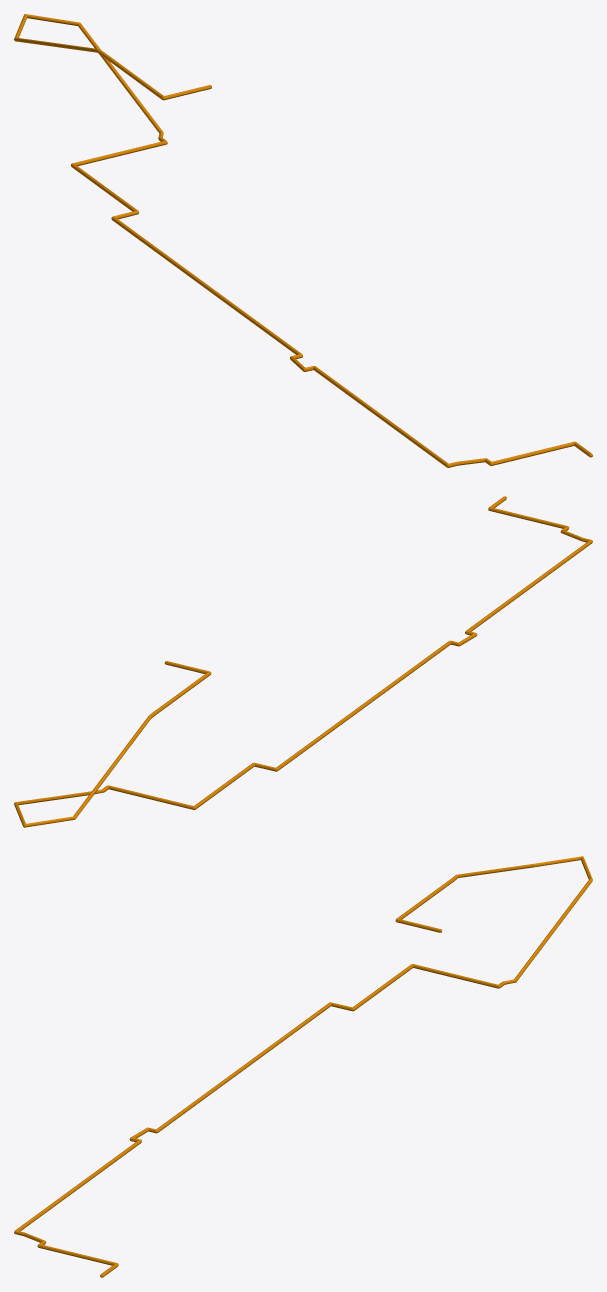
The picture shows the model from 3 angles, top to bottom: view 1: azimuth 30°, elevation 25°; view 2: azimuth 150°, elevation 25°; view 3: azimuth 330°, elevation 25°; orthographic projection. The views are drawn at different scales.
Size of the model in its own units: 749 by 520 by 5070.
